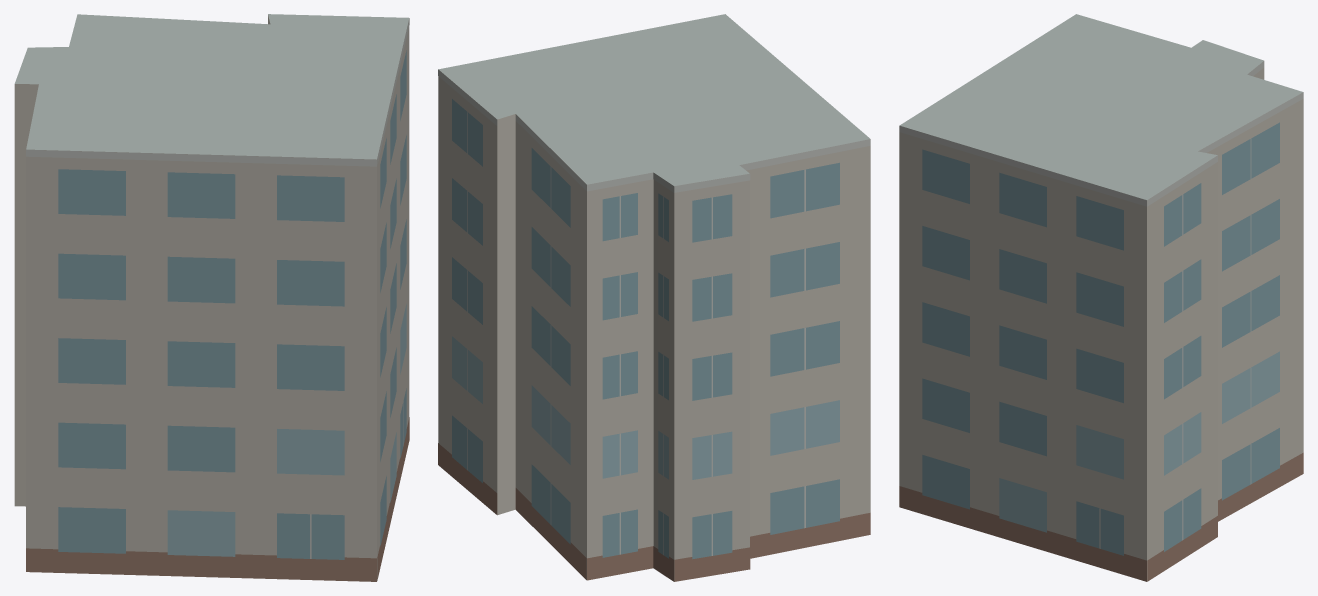
File: survey-upis-32883994.glb
3 renders of one model, left to right at view 1: azimuth 30°, elevation 25°; view 2: azimuth 150°, elevation 25°; view 3: azimuth 270°, elevation 25°, orthographic. The views are drawn at different scales.
Parts seen in each view (by area): view 1: survey-upis-32883994.tmp; view 2: survey-upis-32883994.tmp; view 3: survey-upis-32883994.tmp.
Part boxes in pixels (x1,y1,x2,y2): survey-upis-32883994.tmp: (14, 14, 409, 581); survey-upis-32883994.tmp: (438, 14, 870, 581); survey-upis-32883994.tmp: (899, 14, 1303, 581).
Bounding box in the file's own units: 14.97 × 14.3 × 13.73.
